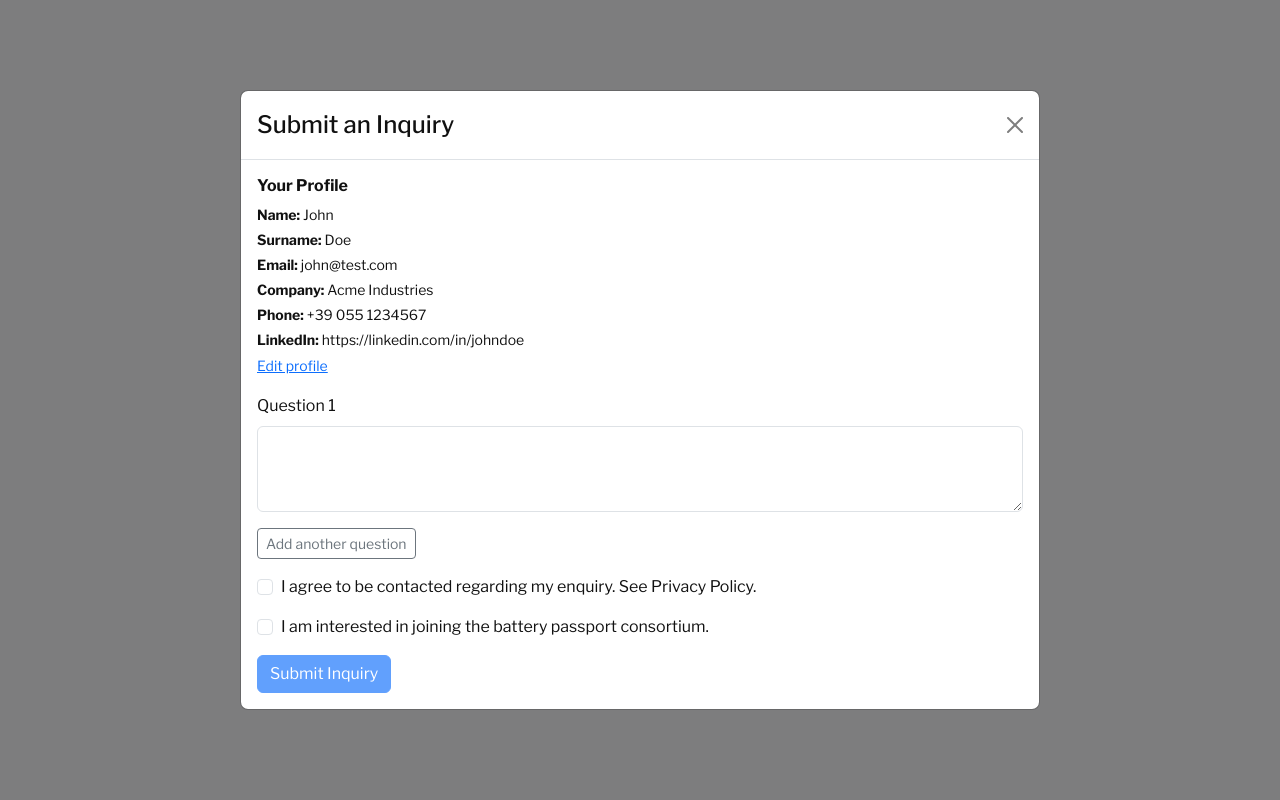
Test: ContactForm › adds another question textarea up to 3
Click the button "Add another question".
click(336, 543)  # box [257,528,416,559]
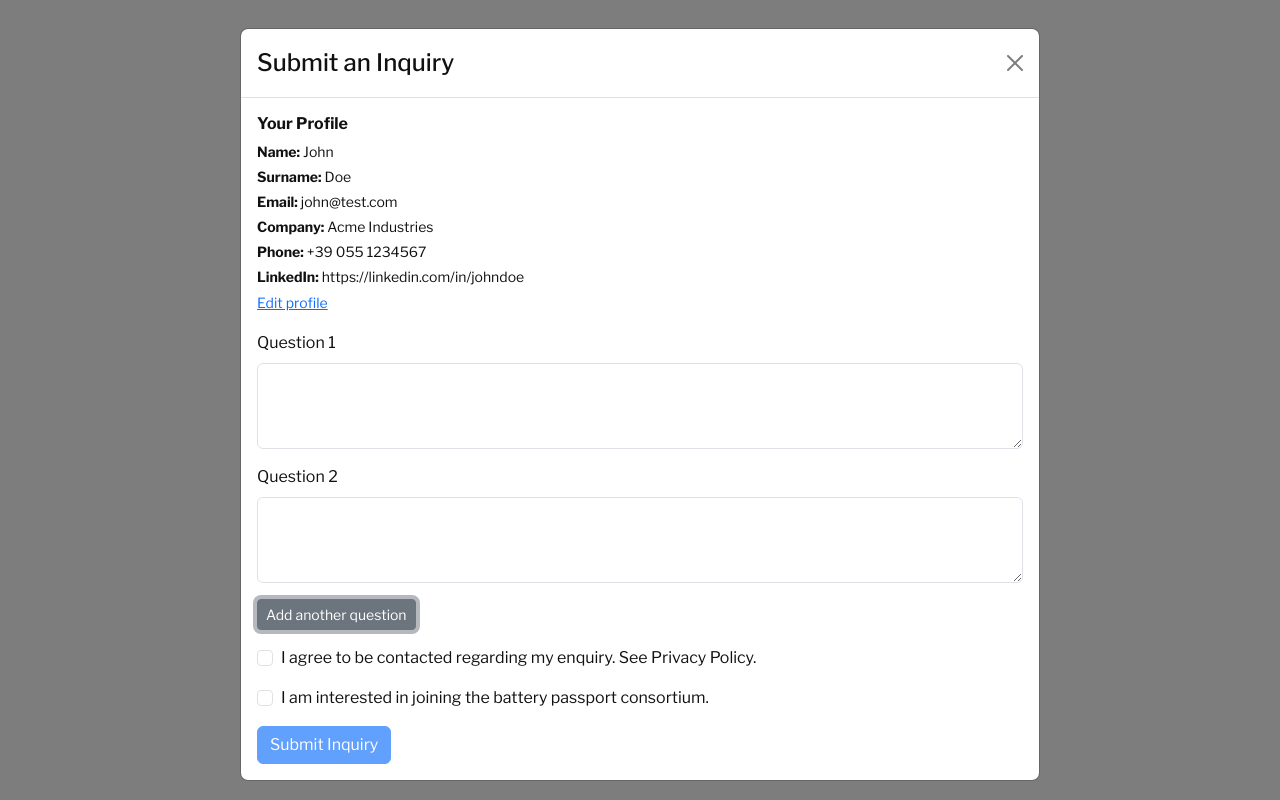
Check: the text box labelled "Question 2" is shown, box [257,497,1023,583]
Click the button "Add another question".
click(336, 615)  # box [257,599,416,630]
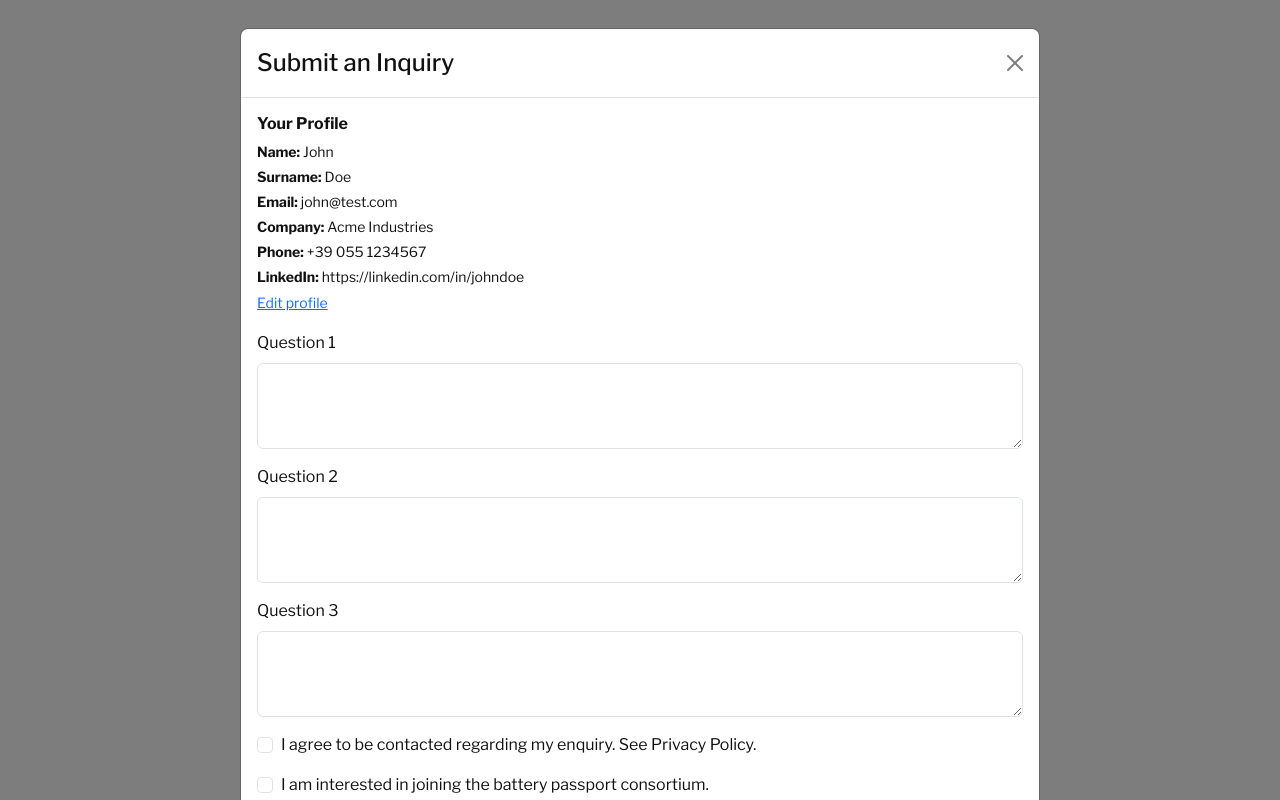
Check: the text box labelled "Question 3" is shown, box [257,631,1023,717]
Check: the button "Add another question" is gone
